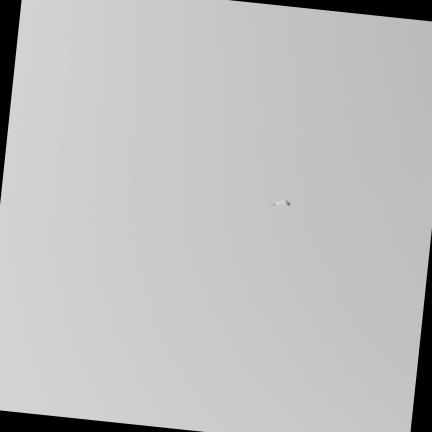Shahed: (271, 197, 291, 206)
